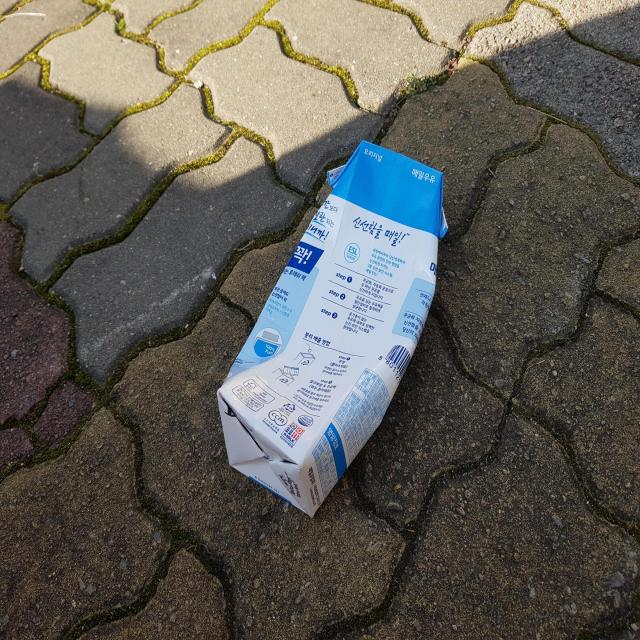paperpack: (218, 140, 448, 517)
